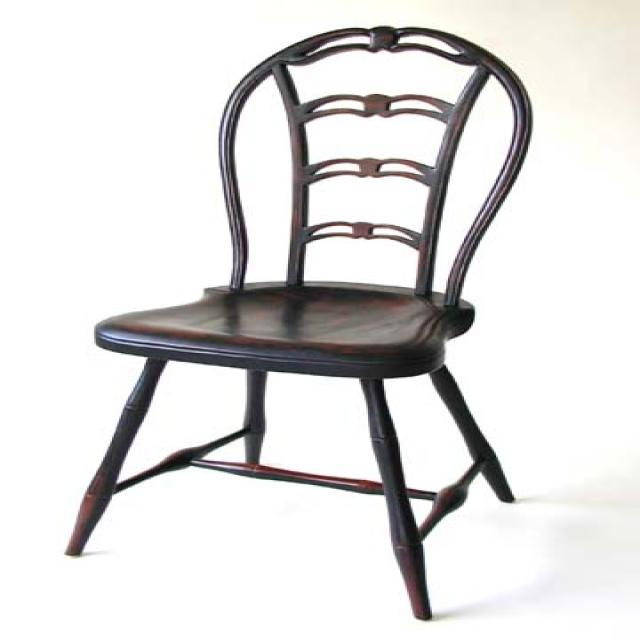chair: (62, 24, 534, 620)
